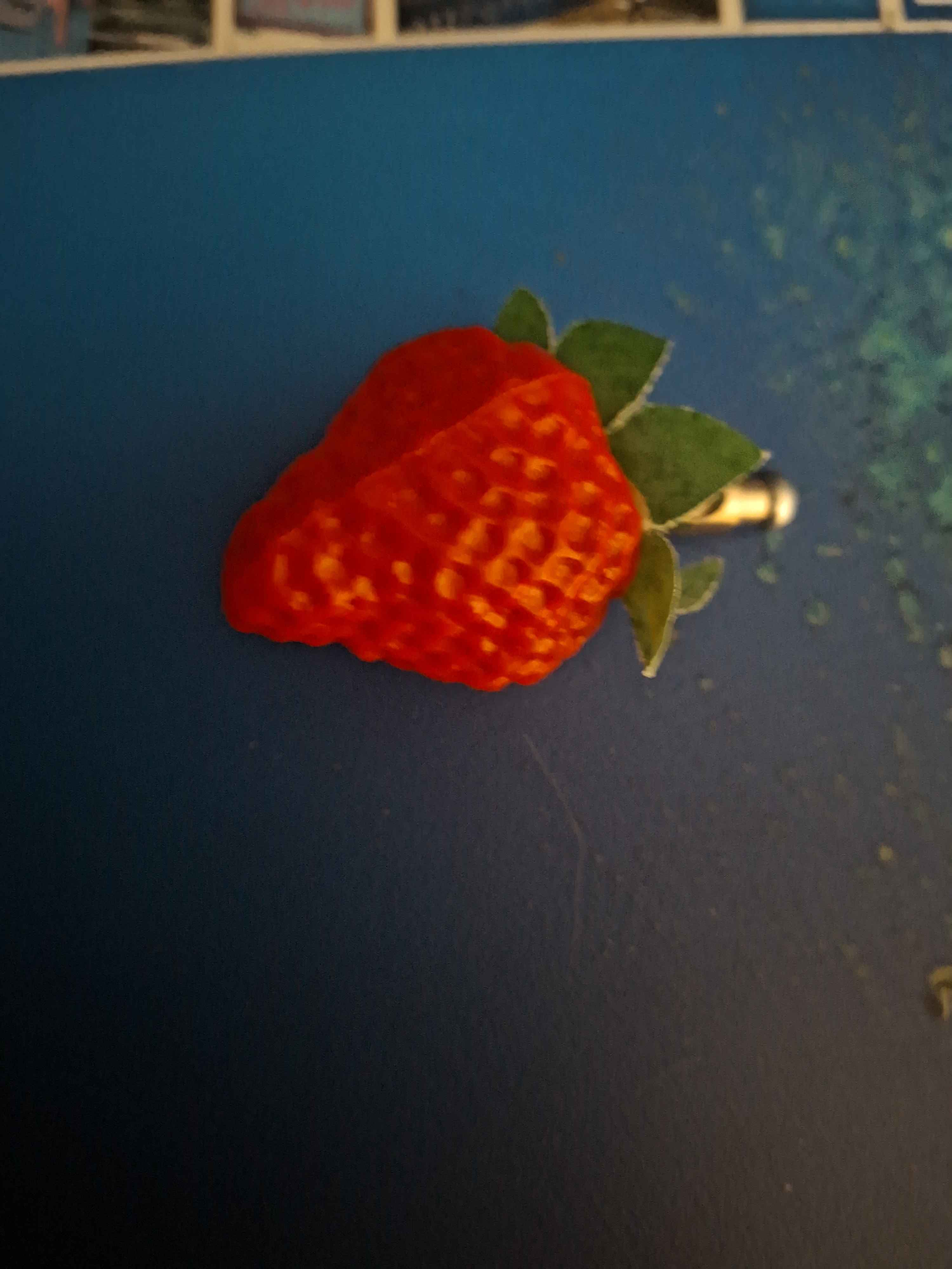Strawberry: (204, 317, 657, 713)
